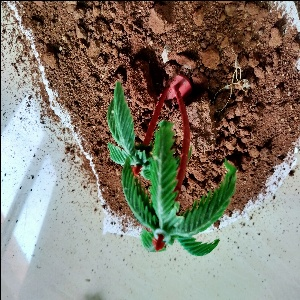plant: (110, 74, 242, 259)
